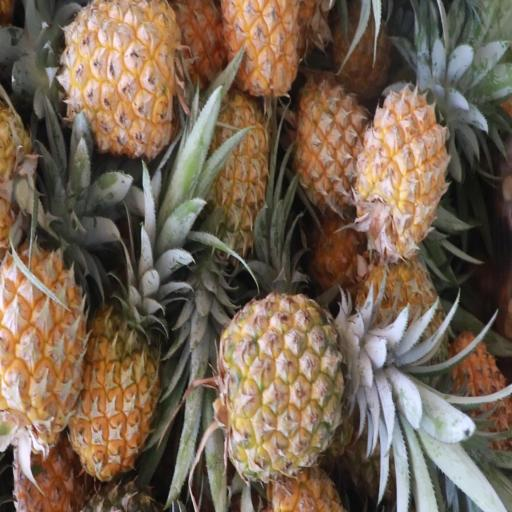------------------------------: (204, 288, 403, 478)
Pineapple - v8 v1: (64, 211, 162, 477), (26, 0, 171, 148), (346, 63, 452, 260), (175, 80, 259, 282), (0, 252, 88, 443), (283, 62, 358, 202)
